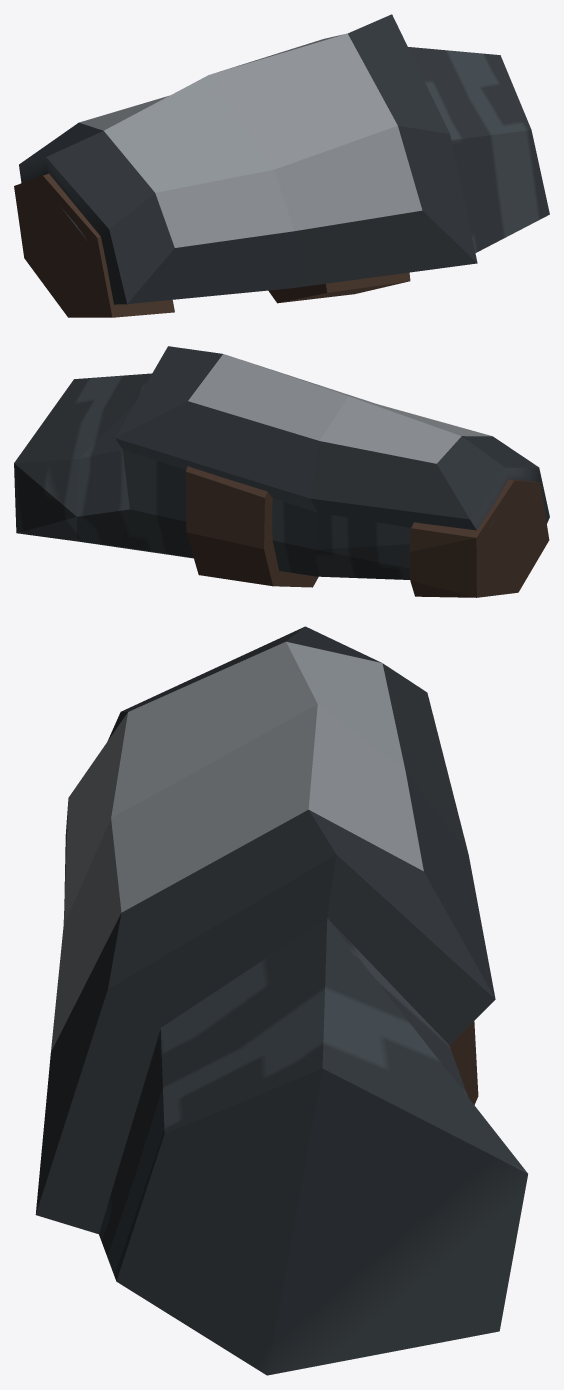
The model's file is Chr_ArmLowerRight_Male_04_Static.fbx.
The picture shows the model from 3 angles, top to bottom: view 1: azimuth 30°, elevation 25°; view 2: azimuth 150°, elevation 25°; view 3: azimuth 270°, elevation 25°; orthographic projection. The views are drawn at different scales.
Visible parts, largest first — view 1: Chr_ArmLowerRight_Male_04_Static; view 2: Chr_ArmLowerRight_Male_04_Static; view 3: Chr_ArmLowerRight_Male_04_Static.
Part boxes in pixels (x1=…): Chr_ArmLowerRight_Male_04_Static: x1=14, y1=14, x2=549, y2=317; Chr_ArmLowerRight_Male_04_Static: x1=14, y1=346, x2=549, y2=597; Chr_ArmLowerRight_Male_04_Static: x1=35, y1=626, x2=527, y2=1375.
Bounding box in the file's own units: 0.2912 × 0.1455 × 0.1391.
